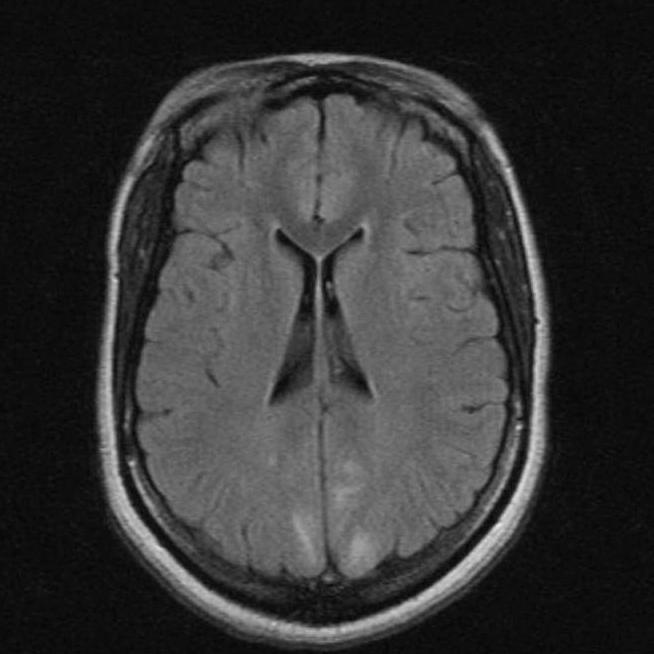Normal_Brain: (1, 1, 654, 652)
